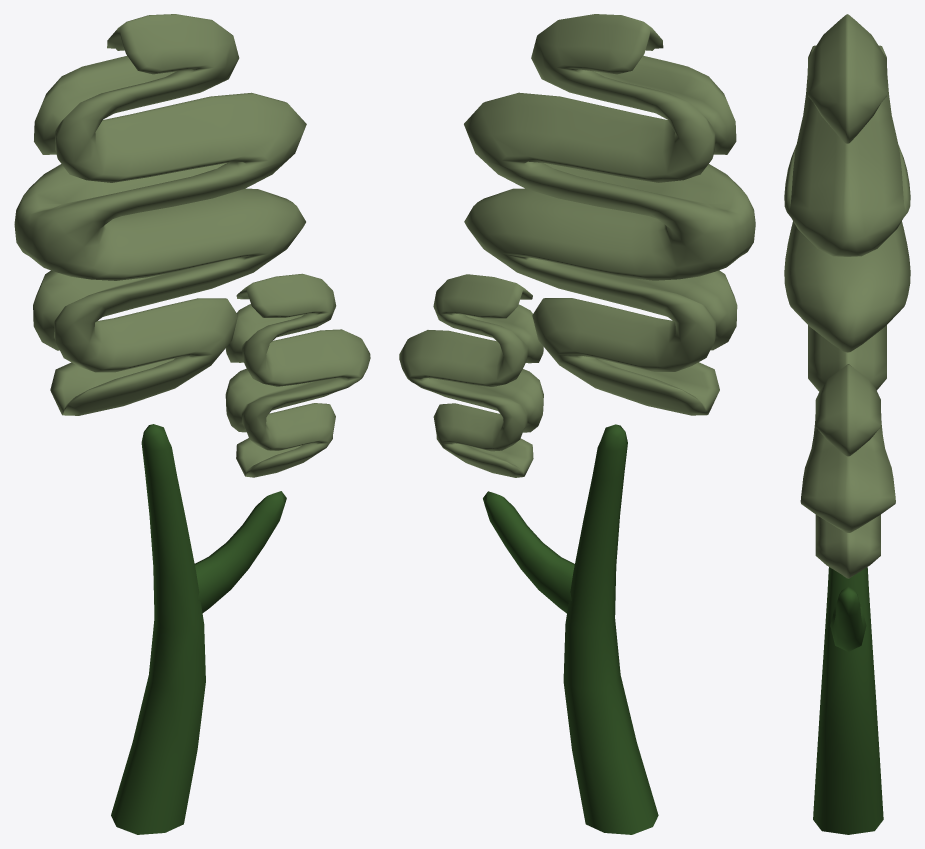
The model's file is quaternius-ultimate-space-tree-floating-2-transformed.glb.
3 views of the same model, side by side, from view 1: azimuth 30°, elevation 25°; view 2: azimuth 150°, elevation 25°; view 3: azimuth 270°, elevation 25° (orthographic).
Visible parts, largest first — view 1: Tree_Floating_2; view 2: Tree_Floating_2; view 3: Tree_Floating_2.
Boxes of the visible parts, box(x1,y1,x2,y2) form: Tree_Floating_2: box(14, 14, 370, 834); Tree_Floating_2: box(399, 14, 755, 834); Tree_Floating_2: box(784, 14, 910, 834).
Bounding box in the file's own units: 2.63 × 5.87 × 0.8429.
Materials: 1 (1 with a texture image).
